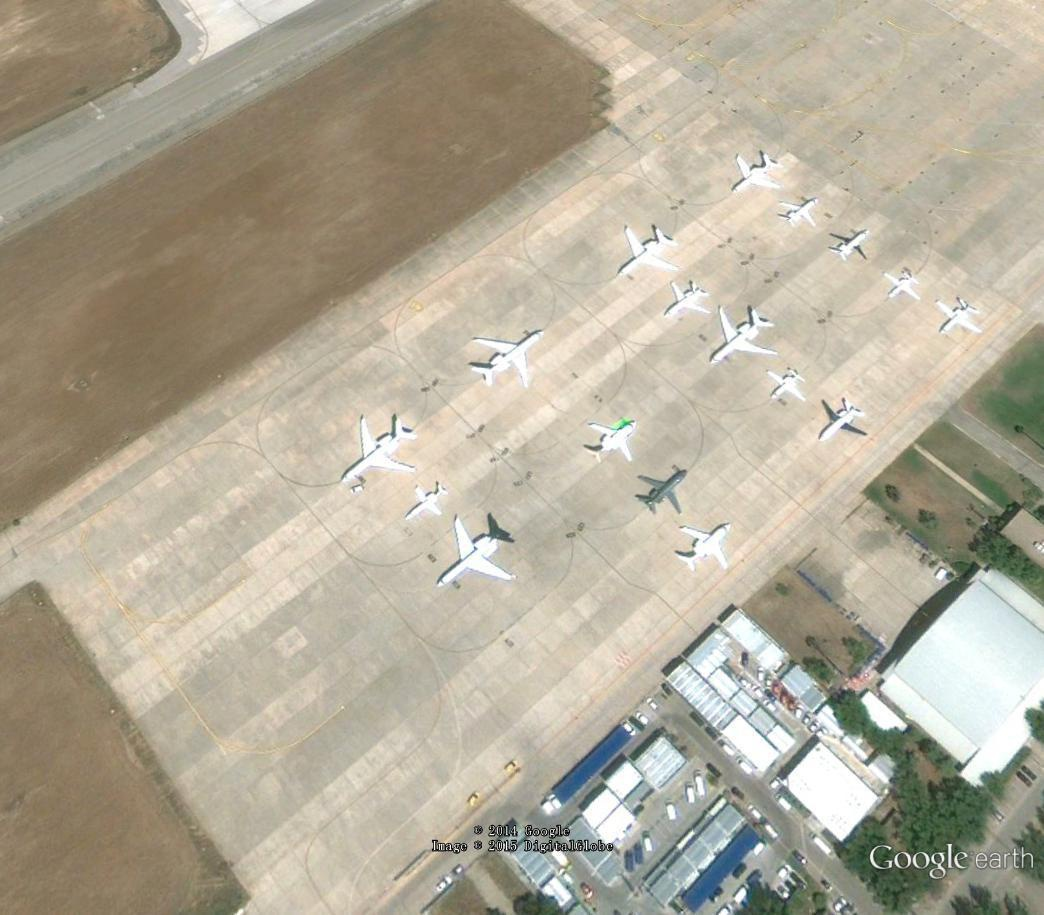aircraft: (432, 514, 525, 592), (336, 409, 424, 489), (466, 325, 550, 394), (706, 303, 787, 369), (612, 223, 688, 282), (670, 519, 738, 579), (634, 468, 691, 523), (814, 394, 871, 448), (582, 417, 640, 469), (729, 150, 789, 199), (661, 279, 718, 322), (403, 480, 454, 525), (936, 295, 985, 340), (765, 366, 816, 409), (828, 228, 877, 267), (775, 195, 823, 232), (882, 268, 925, 304)
